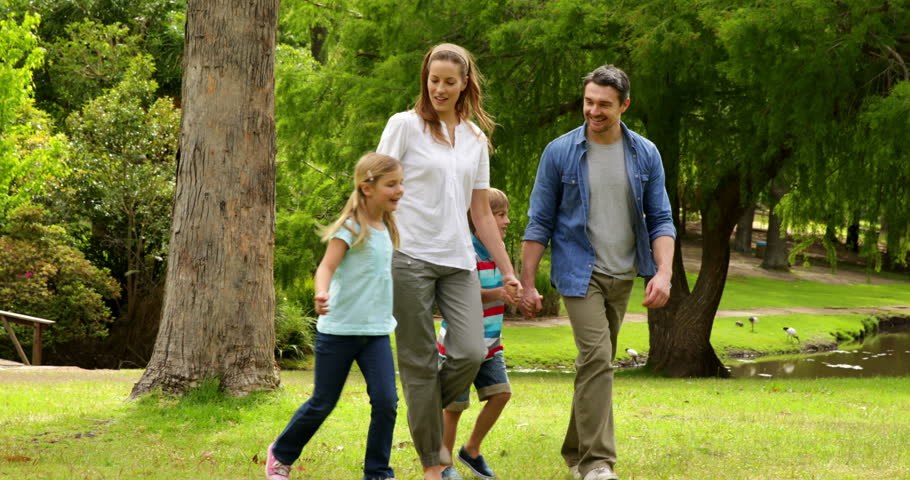Person: (513, 59, 704, 480), (350, 33, 517, 480), (255, 149, 415, 479), (450, 176, 547, 480)
